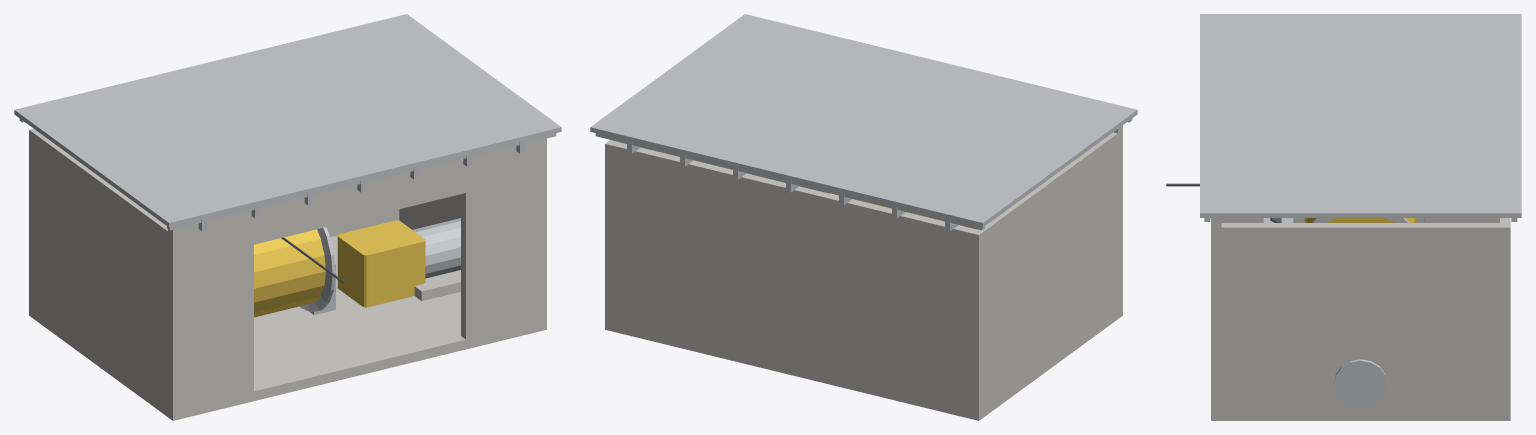
The model's file is underground-mine-and-shaft-works-winder-house-aba1d59b.glb.
3 views of the same model, side by side, from view 1: azimuth 30°, elevation 25°; view 2: azimuth 150°, elevation 25°; view 3: azimuth 270°, elevation 25° (orthographic). The views are drawn at different scales.
Visible parts, largest first — view 1: winder-house; view 2: winder-house; view 3: winder-house.
Boxes of the visible parts, box(x1,y1,x2,y2) form: winder-house: box(14, 14, 561, 420); winder-house: box(590, 14, 1137, 420); winder-house: box(1166, 14, 1521, 420).
Size of the model in its own units: 12.6 by 6.26 by 9.5.
